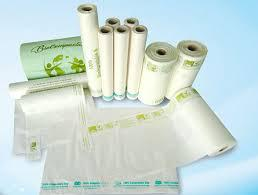Plastic: (43, 101, 191, 194), (89, 85, 234, 177), (21, 86, 92, 150), (74, 5, 106, 102), (21, 35, 90, 77), (138, 39, 175, 113), (168, 29, 203, 95), (10, 75, 90, 100), (97, 25, 116, 102), (112, 24, 128, 105), (129, 24, 141, 106), (124, 13, 137, 30), (104, 13, 120, 25)
